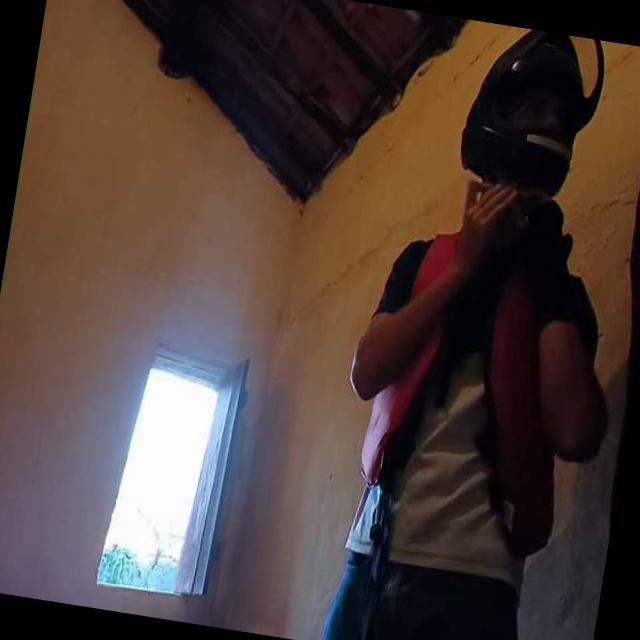capacete: (441, 19, 625, 210)
colete: (352, 207, 572, 538)
pessoa: (305, 9, 640, 640)
